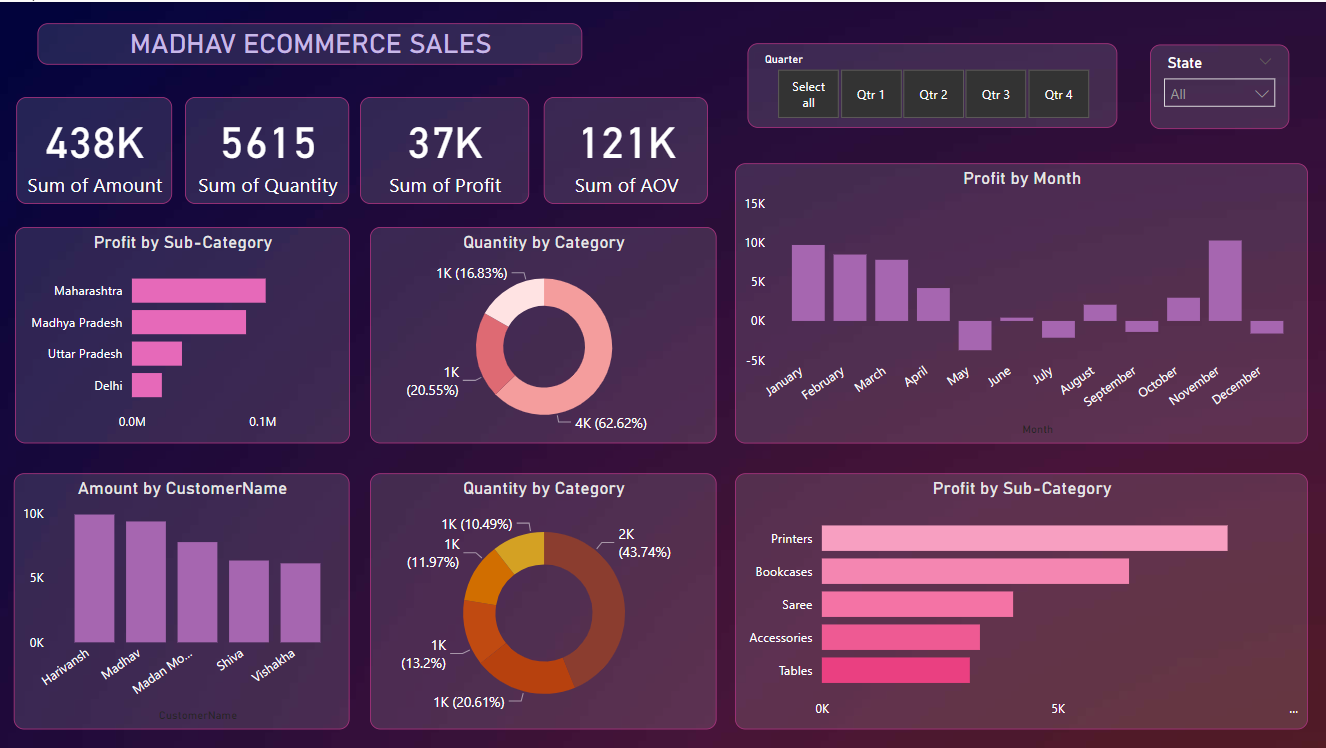

What the dashboard file says about the page in this screenshot:
{"tool":"powerbi","page":{"name":"Page 1","canvas":[1280,720],"ordinal":0},"visuals":[{"type":"textbox","title":"MADHAV ECOMMERCE SALES DASHBOARD","box":[35.7,20,525.7,40],"z":0},{"type":"columnChart","title":"Profit by Month","fields":{"Category":["Orders.Order Date.Variation.Date Hierarchy.Month"],"Y":["Details.Profit"]},"box":[708.6,155.7,552.9,270],"z":1000},{"type":"barChart","title":"Profit by Sub-Category","fields":{"Category":["Details.Sub-Category"],"Y":["Details.Profit"]},"box":[708.6,454.3,552.9,247.1],"z":2000},{"type":"donutChart","title":"Quantity by Category","fields":{"Category":["Details.Category"],"Y":["Details.Quantity"]},"box":[357.1,217.1,334.3,208.6],"z":3000},{"type":"donutChart","title":"Quantity by Category","fields":{"Category":["Details.PaymentMode"],"Y":["Details.Quantity"]},"box":[357.1,454.3,334.3,247.1],"z":4000},{"type":"card","fields":{"Values":["Details.Amount"]},"box":[15.7,91.4,150,102.9],"z":5000},{"type":"card","fields":{"Values":["Details.Quantity"]},"box":[178.6,91.4,158.6,102.9],"z":6000},{"type":"card","fields":{"Values":["Details.Profit"]},"box":[347.1,91.4,162.9,102.9],"z":7000},{"type":"card","fields":{"Values":["Details.AOV"]},"box":[524.3,91.4,158.6,102.9],"z":8000},{"type":"barChart","title":"Profit by Sub-Category","fields":{"Category":["Orders.State"],"Y":["Details.Amount"]},"box":[14.3,217.1,322.9,208.6],"z":9000},{"type":"columnChart","title":" Amount by CustomerName","fields":{"Category":["Orders.CustomerName"],"Y":["Details.Amount"]},"box":[12.9,454.3,324.3,247.1],"z":10000},{"type":"slicer","fields":{"Values":["Orders.Order Date.Variation.Date Hierarchy.Quarter"]},"box":[721.4,40,357.1,81.4],"z":11000},{"type":"slicer","fields":{"Values":["Orders.State"]},"box":[1110,41.4,134.3,81.4],"z":12000}]}

Visuals, with their boxes in screenshot pixels (x1, y1, x2, y2), scaled from the page's 1280x720 canvas onto the 1326x748 screenshot:
"MADHAV ECOMMERCE SALES DASHBOARD" textbox: detection(37, 21, 582, 62)
"Profit by Month" columnChart: detection(734, 162, 1307, 442)
"Profit by Sub-Category" barChart: detection(734, 472, 1307, 729)
"Quantity by Category" donutChart: detection(370, 226, 716, 442)
"Quantity by Category" donutChart: detection(370, 472, 716, 729)
card - Details.Amount: detection(16, 95, 172, 202)
card - Details.Quantity: detection(185, 95, 349, 202)
card - Details.Profit: detection(360, 95, 528, 202)
card - Details.AOV: detection(543, 95, 707, 202)
"Profit by Sub-Category" barChart: detection(15, 226, 349, 442)
" Amount by CustomerName" columnChart: detection(13, 472, 349, 729)
slicer - Orders.Order Date.Variation.Date Hierarchy.Quarter: detection(747, 42, 1117, 126)
slicer - Orders.State: detection(1150, 43, 1289, 128)
